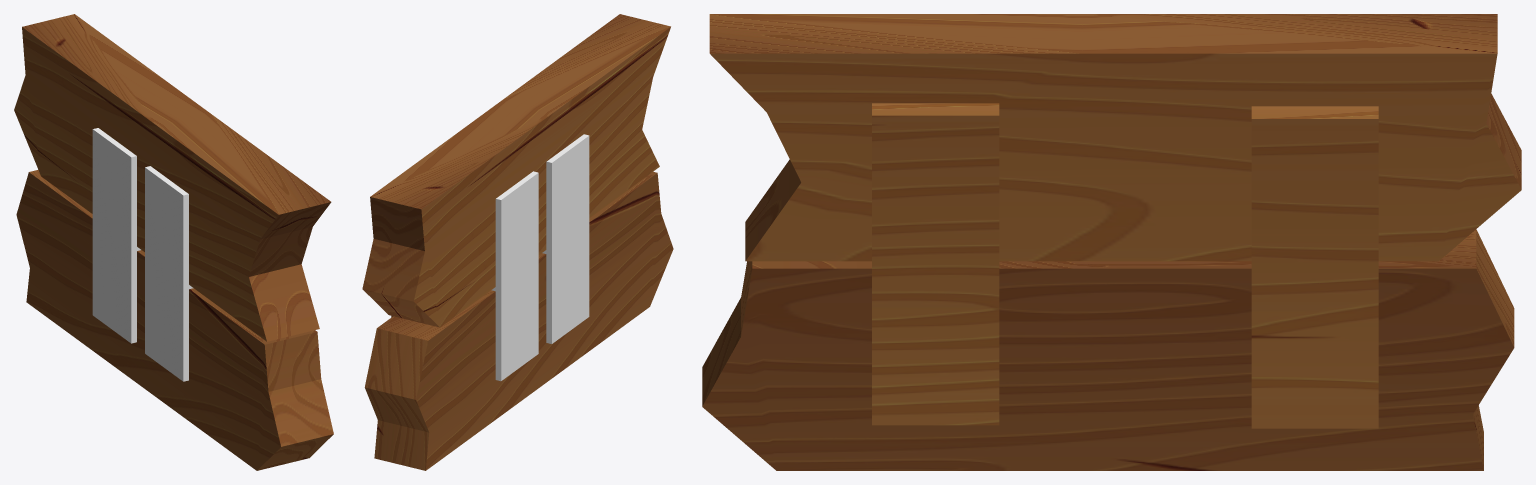
Rendered from Pause_Sign_Sliced.fbx.
3 views of the same model, side by side, from view 1: azimuth 30°, elevation 25°; view 2: azimuth 150°, elevation 25°; view 3: azimuth 270°, elevation 25° (orthographic). The views are drawn at different scales.
Visible parts, largest first — view 1: Sign_Right, Sign_Left; view 2: Sign_Left, Sign_Right; view 3: Sign_Right, Sign_Left.
Boxes of the visible parts, box(x1,y1,x2,y2) form: Sign_Right: box(132, 113, 333, 470); Sign_Left: box(14, 14, 209, 378); Sign_Left: box(362, 100, 552, 470); Sign_Right: box(502, 14, 673, 395); Sign_Right: box(702, 14, 1160, 470); Sign_Left: box(1082, 14, 1521, 470).
Size of the model in its own units: 98.99 by 343 by 610.
